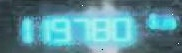0: (110, 14, 132, 43)
1: (19, 15, 30, 46), (40, 16, 50, 45)
7: (72, 14, 90, 42)
8: (90, 14, 109, 42)
9: (50, 16, 69, 43)
X: (160, 16, 174, 27), (149, 13, 159, 26)
